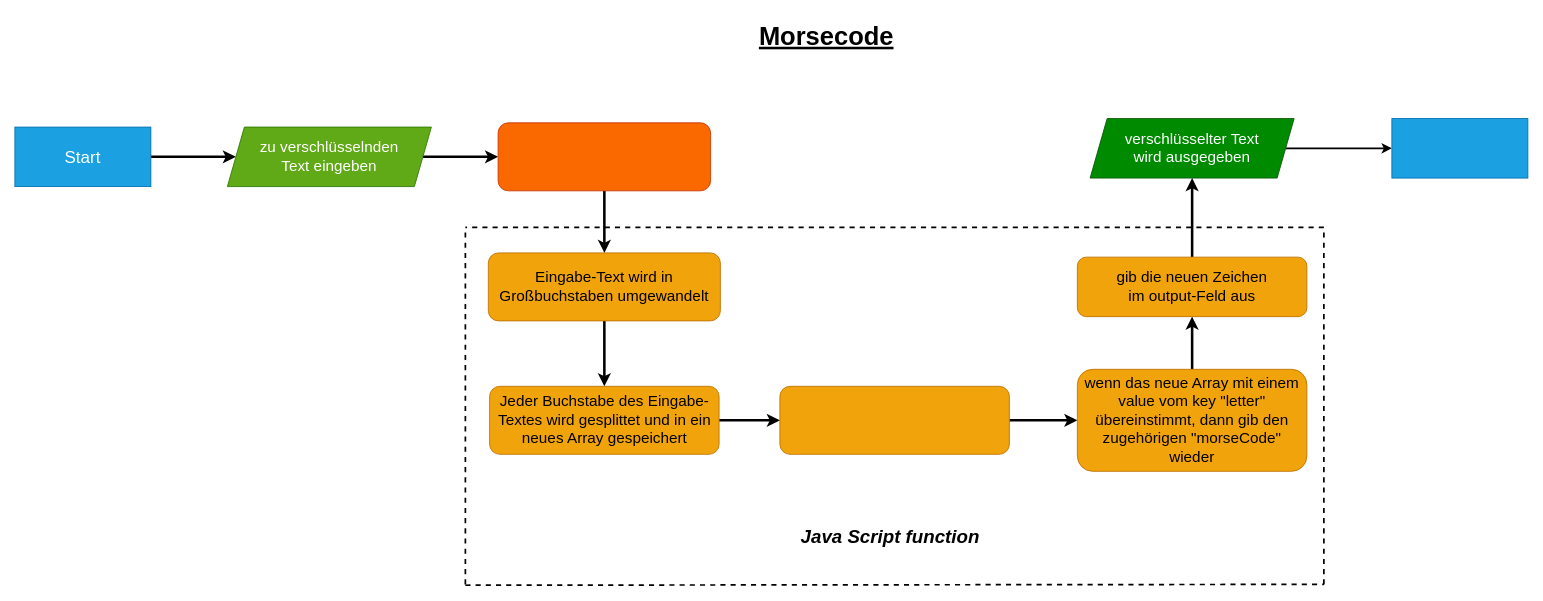
This 1543x601 diagram has some shape labels left out. Each missing label, with the centre of its shape:
"encrypt" Button klicken: the point at 604,156
Ende: the point at 1459,148
vergleiche jedes neue Array mit dem Array "morseAlphabet": the point at 894,419
